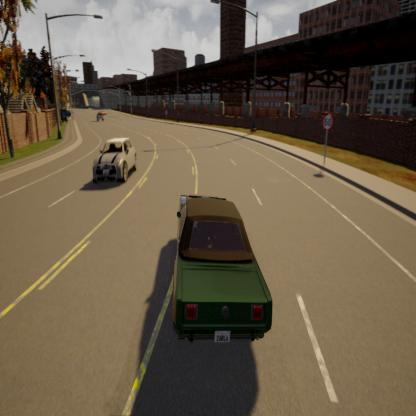Cars: (150, 176, 282, 367), (88, 134, 140, 188), (95, 109, 105, 124), (95, 109, 107, 115)
